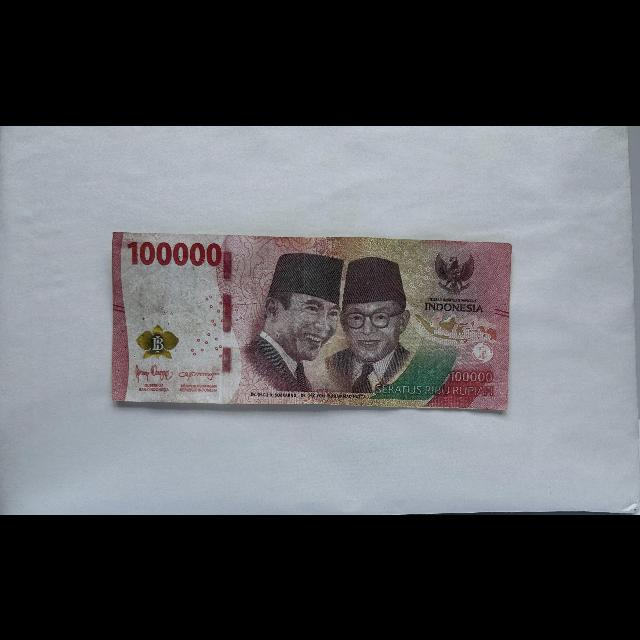Palsu-100k: (112, 230, 513, 411)
Tinta-Palsu-100k: (136, 323, 180, 359)
